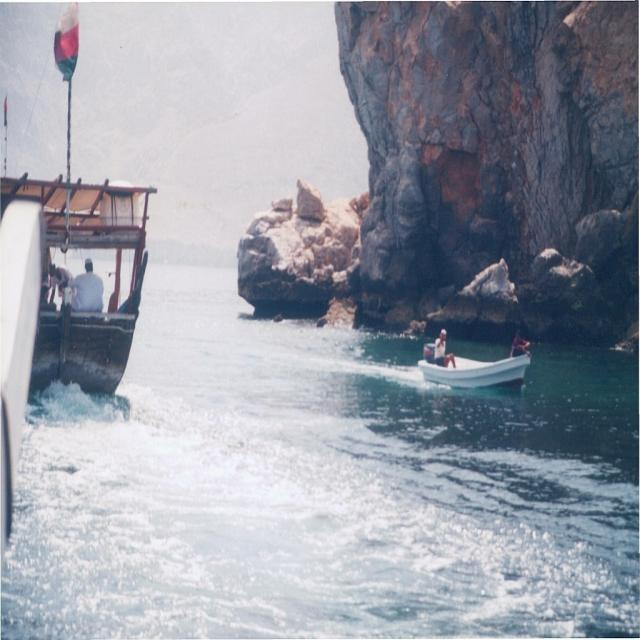Boat: (0, 0, 157, 388), (423, 325, 538, 390)
